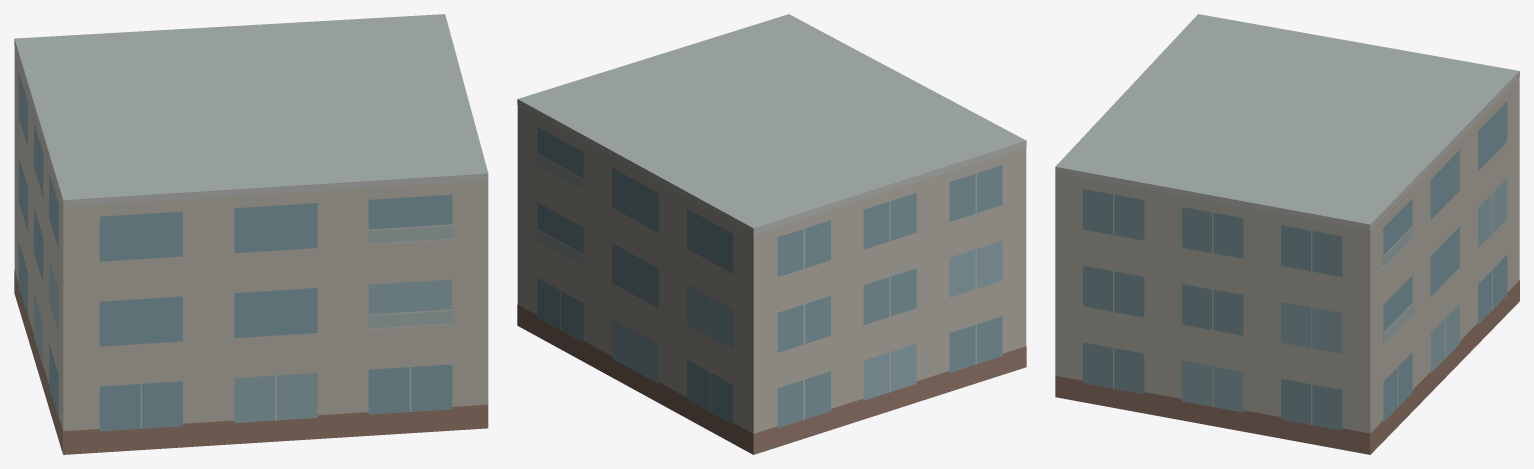
Rendered from survey-upis-32997701.glb.
3 renders of one model, left to right at view 1: azimuth 30°, elevation 25°; view 2: azimuth 150°, elevation 25°; view 3: azimuth 270°, elevation 25°, orthographic. The views are drawn at different scales.
Parts seen in each view (by area): view 1: survey-upis-32997701.tmp; view 2: survey-upis-32997701.tmp; view 3: survey-upis-32997701.tmp.
Part boxes in pixels (x1,y1,x2,y2): survey-upis-32997701.tmp: (14,14,488,454); survey-upis-32997701.tmp: (517,14,1026,454); survey-upis-32997701.tmp: (1055,14,1519,454).
Bounding box in the file's own units: 17.84 × 9.1 × 16.64.
